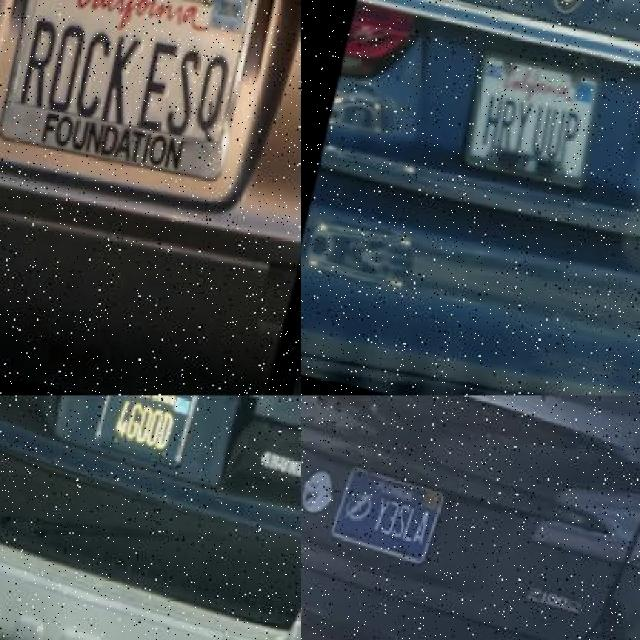licenseplate: (0, 0, 258, 181), (464, 53, 607, 187), (329, 463, 448, 566), (92, 396, 208, 464)
